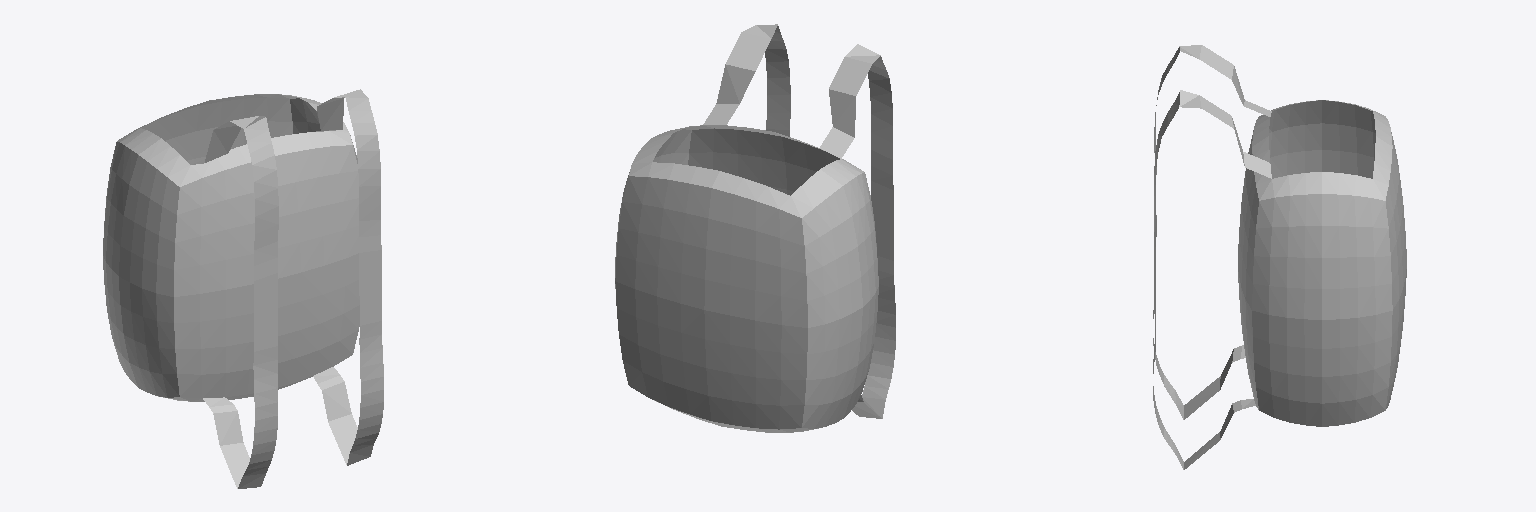
The model's file is testobj4.obj.
The picture shows the model from 3 angles: view 1: azimuth 30°, elevation 25°; view 2: azimuth 150°, elevation 25°; view 3: azimuth 270°, elevation 25°; orthographic projection.
Visible parts, largest first — view 1: backpack_1.001; view 2: backpack_1.001; view 3: backpack_1.001.
Boxes of the visible parts, x1,y1,x2,y2 form: backpack_1.001: [103, 89, 383, 488]; backpack_1.001: [615, 24, 895, 432]; backpack_1.001: [1153, 45, 1406, 469].
Size of the model in its own units: 0.7388 by 1.13 by 0.6999.